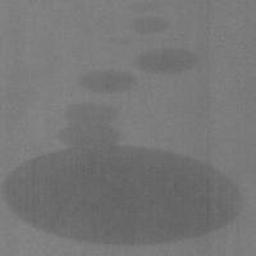Oil spot: (0, 100, 248, 247), (77, 45, 200, 97), (129, 0, 172, 37)
